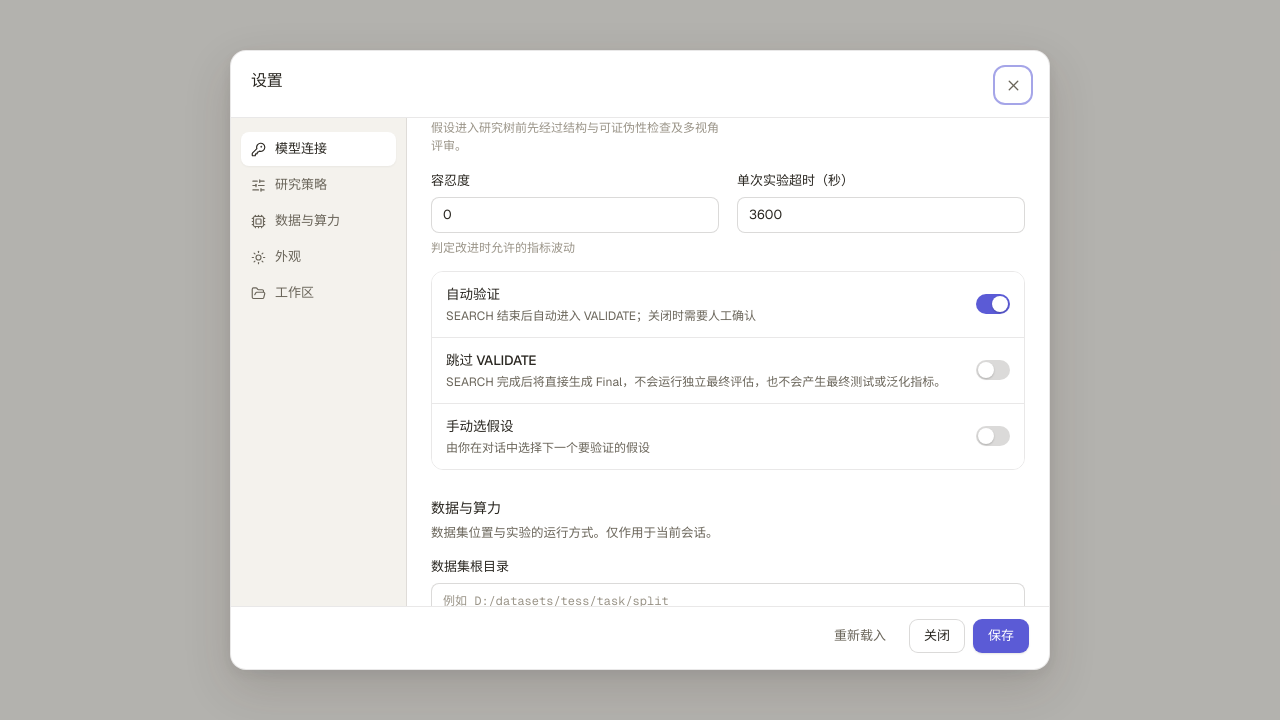
Test: SettingsPanel validation controls › saves skip validate while preserving the automatic validation choice
(page scrolled)
Click the checkbox named "跳过 VALIDATE" at (993, 370), box [976,360,1010,380]
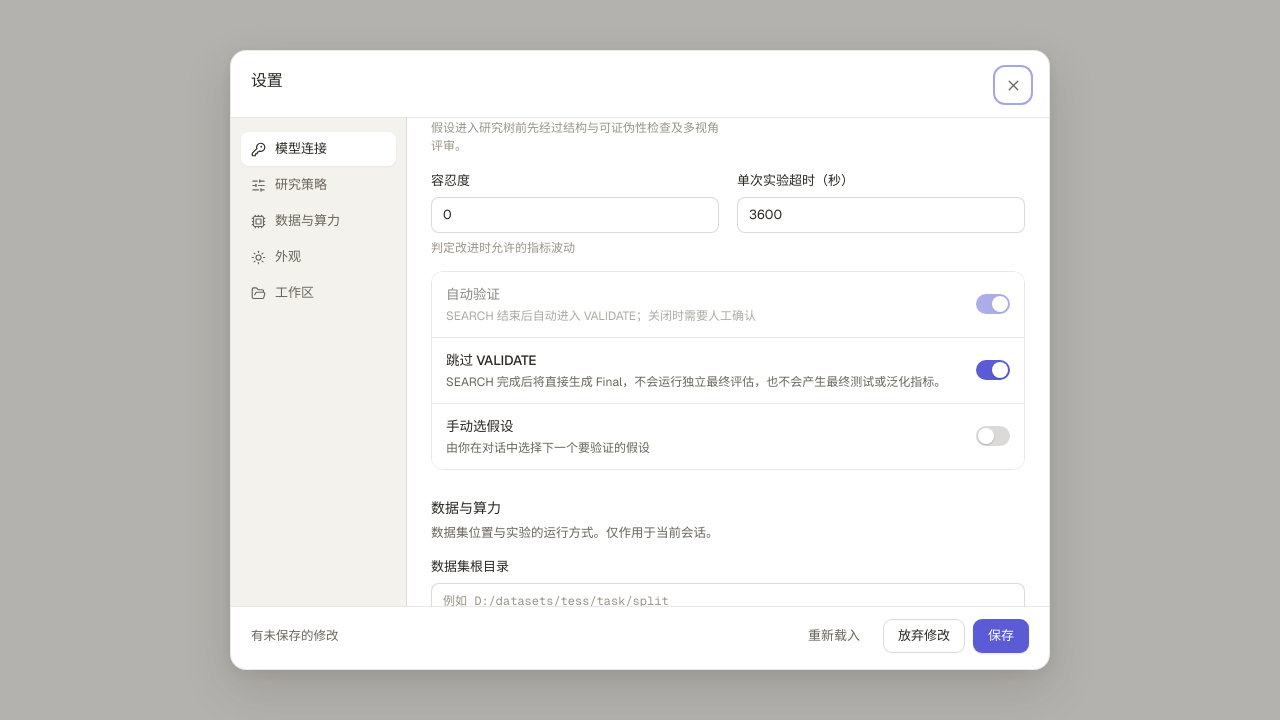
Expected: the checkbox named "自动验证" is checked, [976,294,1010,314]
Now the checkbox named "自动验证" is disabled, box [976,294,1010,314]
Click the button "保存" at (1001, 636), box [973,619,1029,653]
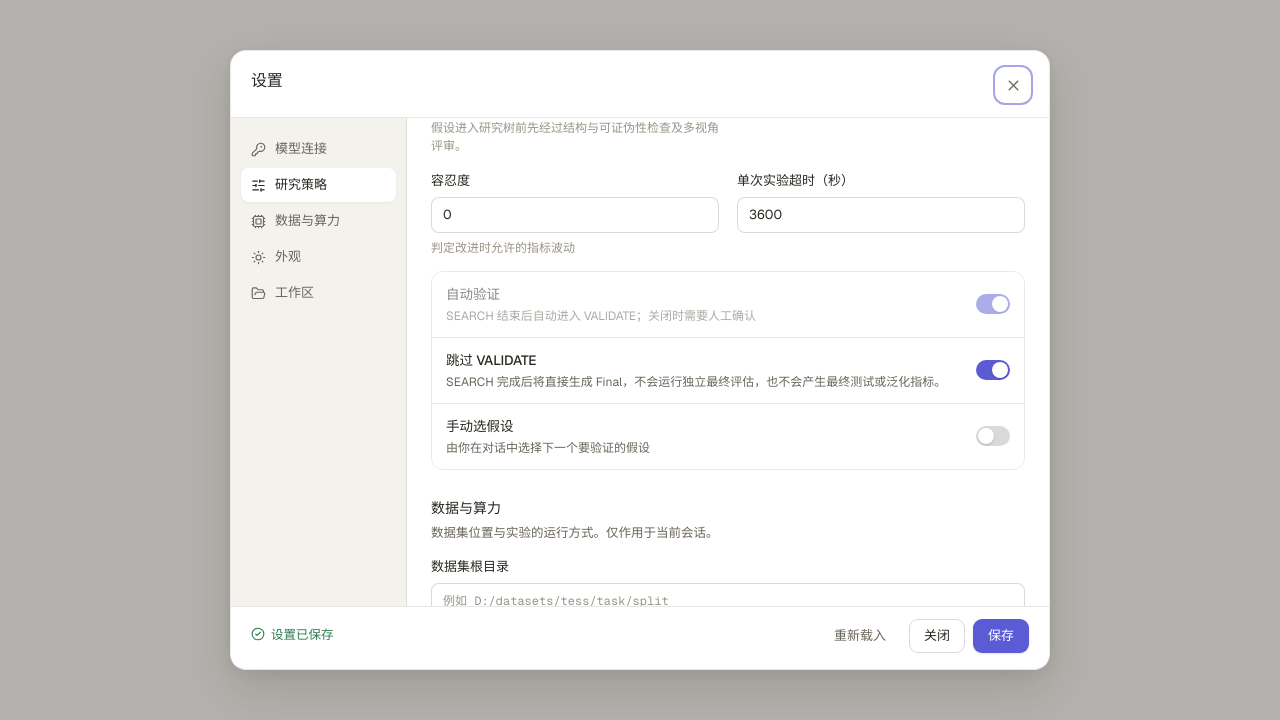
Click the checkbox named "跳过 VALIDATE" at (993, 370), box [976,360,1010,380]
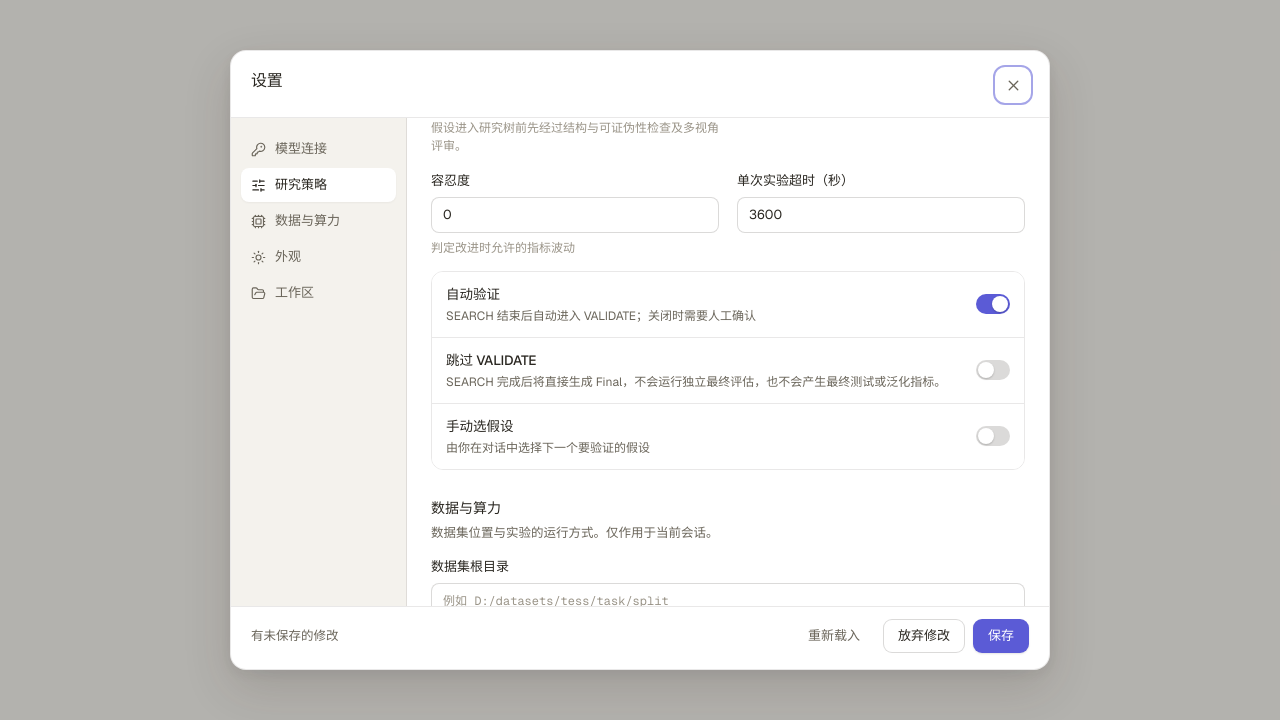
Expected: the checkbox named "自动验证" is checked, [976,294,1010,314]
Now the checkbox named "自动验证" is enabled, box [976,294,1010,314]
